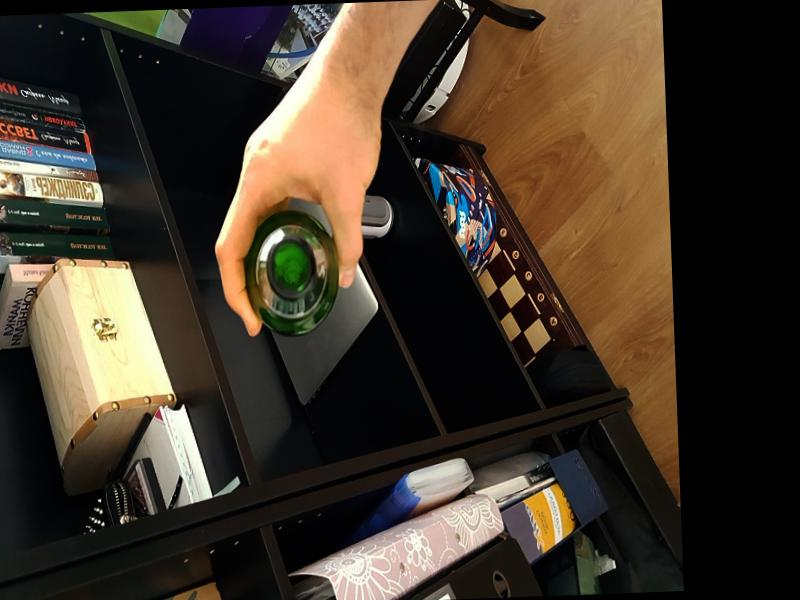Beer: (243, 211, 342, 330)
